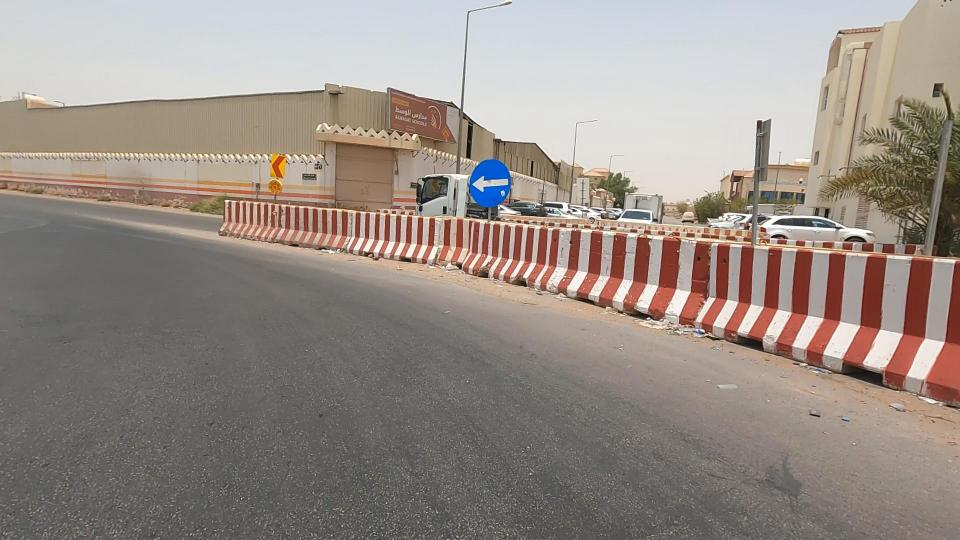CONSTRUCTION_ROAD: (420, 136, 960, 434), (178, 149, 603, 335)
GARBAGE: (575, 291, 762, 375)
